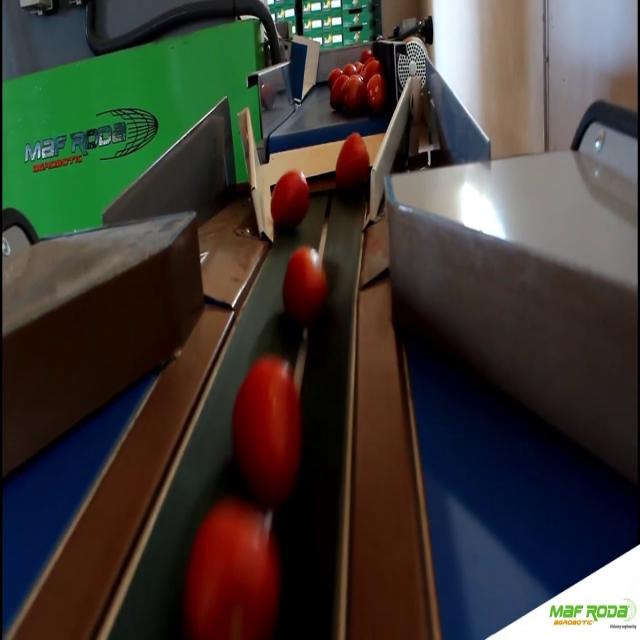Tomato: (176, 499, 282, 640), (226, 353, 318, 496), (281, 242, 328, 316), (270, 164, 310, 232), (333, 130, 369, 195), (339, 76, 366, 108), (367, 76, 389, 109), (326, 70, 342, 84)
